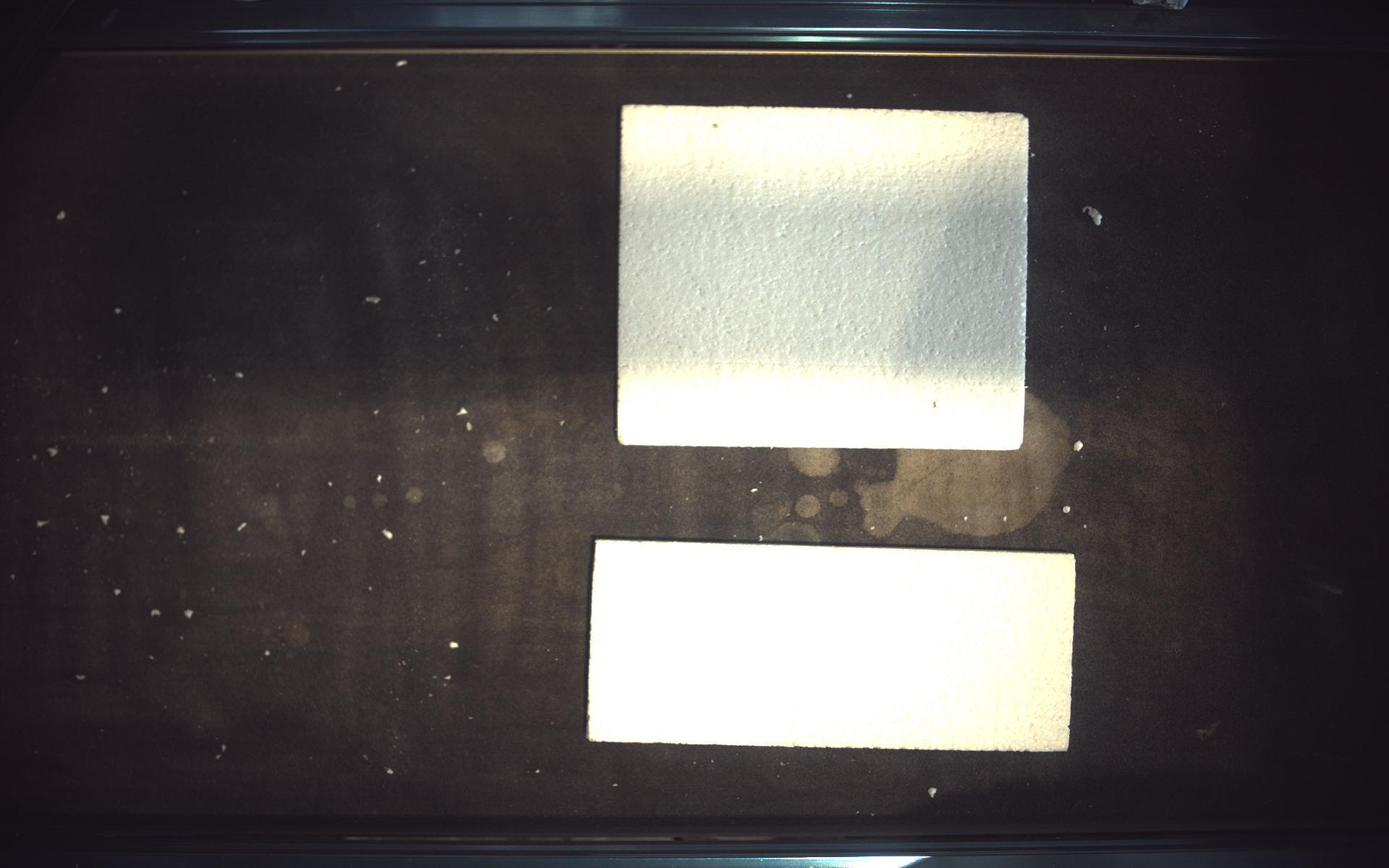foam: (618, 103, 1031, 451), (589, 540, 1077, 753)
